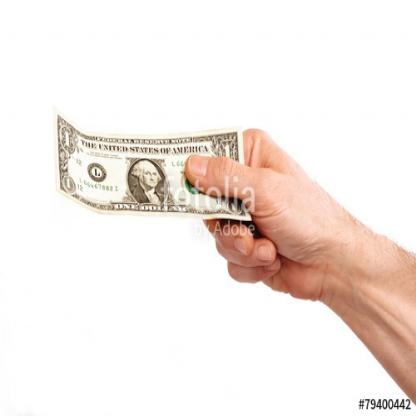billete: (52, 104, 252, 222)
